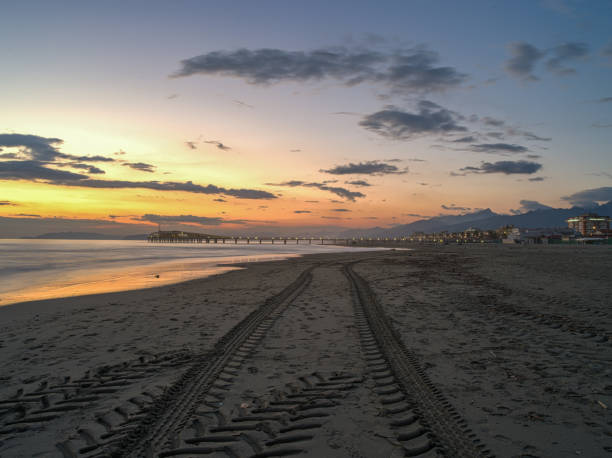vehicle_track: (102, 266, 313, 457), (344, 263, 492, 457)
